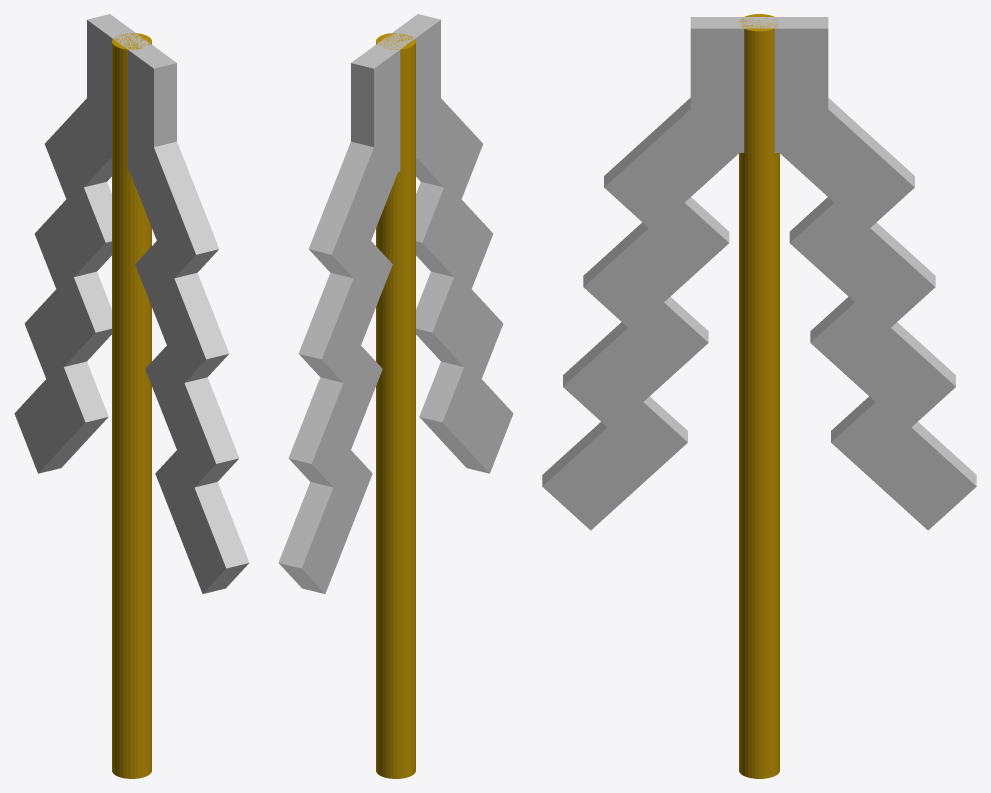
Rendered from Gohei.obj.
3 renders of one model, left to right at view 1: azimuth 30°, elevation 25°; view 2: azimuth 150°, elevation 25°; view 3: azimuth 270°, elevation 25°, orthographic. The views are drawn at different scales.
Parts seen in each view (by area): view 1: Cylinder, Cube, Cube.001, Cube.008, Cube.002, Cube.003, Cube.004, Cube.007, Cube.006, Cube.005; view 2: Cylinder, Cube, Cube.004, Cube.006, Cube.007, Cube.008, Cube.005, Cube.003, Cube.002, Cube.001; view 3: Cylinder, Cube, Cube.004, Cube.003, Cube.007, Cube.008, Cube.002, Cube.001, Cube.006, Cube.005.
Part boxes in pixels (x1=…): Cylinder: x1=112, y1=33, x2=151, y2=778; Cube: x1=87, y1=14, x2=176, y2=189; Cube.001: x1=127, y1=134, x2=218, y2=278; Cube.008: x1=155, y1=448, x2=249, y2=593; Cube.002: x1=135, y1=239, x2=229, y2=384; Cube.003: x1=145, y1=346, x2=239, y2=487; Cube.004: x1=14, y1=361, x2=108, y2=473; Cube.007: x1=24, y1=271, x2=111, y2=382; Cube.006: x1=34, y1=182, x2=111, y2=293; Cube.005: x1=45, y1=98, x2=111, y2=203; Cylinder: x1=376, y1=33, x2=415, y2=778; Cube: x1=351, y1=14, x2=440, y2=189; Cube.004: x1=278, y1=448, x2=372, y2=593; Cube.006: x1=298, y1=240, x2=392, y2=384; Cube.007: x1=288, y1=346, x2=382, y2=488; Cube.008: x1=419, y1=361, x2=513, y2=473; Cube.005: x1=309, y1=141, x2=399, y2=279; Cube.003: x1=416, y1=271, x2=503, y2=378; Cube.002: x1=416, y1=182, x2=493, y2=293; Cube.001: x1=416, y1=93, x2=482, y2=198; Cylinder: x1=739, y1=14, x2=779, y2=778; Cube: x1=690, y1=17, x2=828, y2=152; Cube.004: x1=831, y1=396, x2=976, y2=530; Cube.003: x1=563, y1=296, x2=708, y2=430; Cube.007: x1=810, y1=296, x2=955, y2=430; Cube.008: x1=542, y1=396, x2=687, y2=530; Cube.002: x1=583, y1=197, x2=729, y2=328; Cube.001: x1=604, y1=98, x2=744, y2=231; Cube.006: x1=789, y1=197, x2=935, y2=329; Cube.005: x1=774, y1=98, x2=914, y2=230.
Bounding box in the file's own units: 0.6 × 12 × 6.32.
